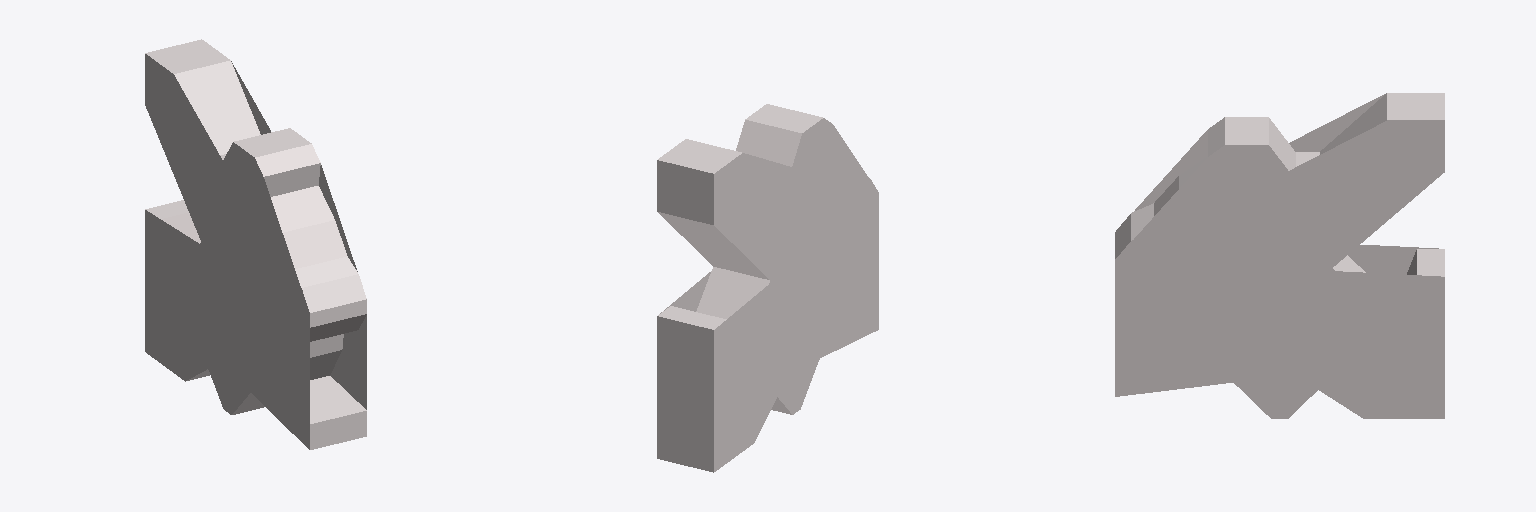
File: Goaler.obj
3 renders of one model, left to right at view 1: azimuth 30°, elevation 25°; view 2: azimuth 150°, elevation 25°; view 3: azimuth 270°, elevation 25°, orthographic.
Visible parts, largest first — view 1: Mesh1 Model; view 2: Mesh1 Model; view 3: Mesh1 Model.
Part boxes in pixels (x1,y1,x2,y2): Mesh1 Model: (145, 39, 366, 449); Mesh1 Model: (657, 104, 878, 472); Mesh1 Model: (1115, 93, 1444, 418).
Bounding box in the file's own units: 2 × 10 × 10.